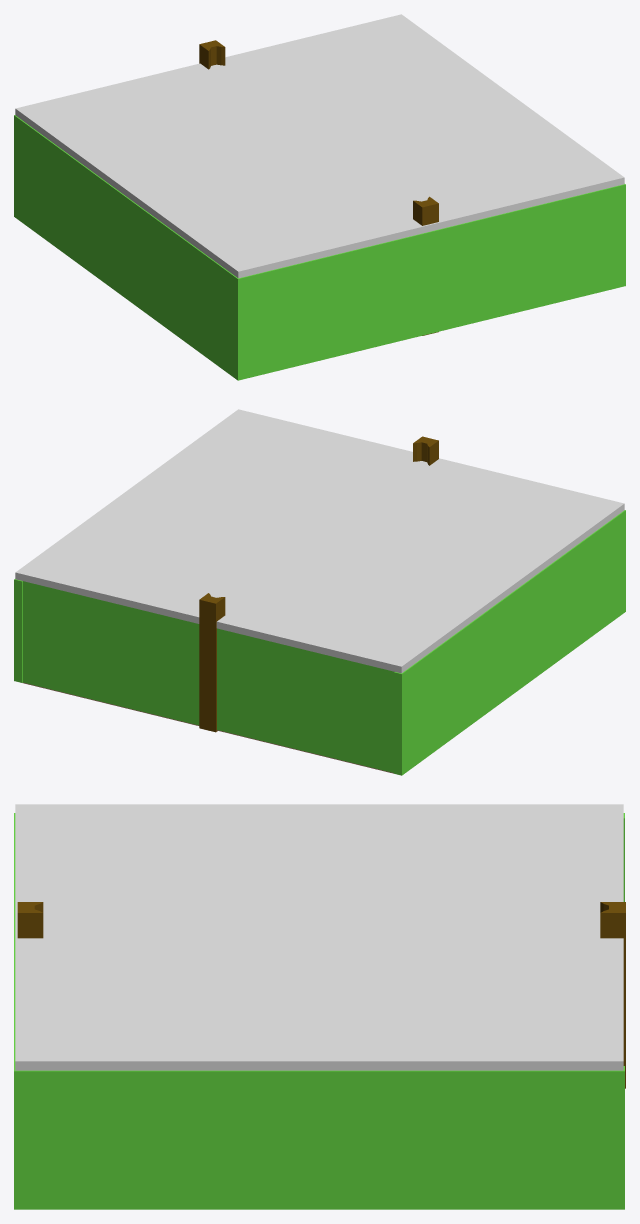
File: Area2.fbx
3 views of the same model, one above another, from view 1: azimuth 30°, elevation 25°; view 2: azimuth 150°, elevation 25°; view 3: azimuth 270°, elevation 25° (orthographic). The views are drawn at different scales.
Visible parts, largest first — view 1: Cube.004, Cube.001, Cube.003, Cube.002, Cube.005, Cube.006, Cube.007; view 2: Cube.004, Cube.007, Cube.003, Cube.005, Cube.002, Cube.006, Cube.001; view 3: Cube.004, Cube.002, Cube.001, Cube.007, Cube.005, Cube.006.
Boxes of the visible parts, left/top/right/bottom form: Cube.004: left=15, top=14, right=624, bottom=278; Cube.001: left=233, top=186, right=617, bottom=380; Cube.003: left=14, top=115, right=245, bottom=380; Cube.002: left=617, top=184, right=625, bottom=287; Cube.005: left=199, top=40, right=225, bottom=69; Cube.006: left=413, top=196, right=438, bottom=335; Cube.007: left=14, top=115, right=19, bottom=220; Cube.004: left=15, top=409, right=624, bottom=673; Cube.007: left=23, top=581, right=407, bottom=774; Cube.003: left=394, top=513, right=621, bottom=775; Cube.005: left=199, top=593, right=225, bottom=732; Cube.002: left=14, top=579, right=22, bottom=682; Cube.006: left=413, top=436, right=438, bottom=465; Cube.001: left=620, top=510, right=625, bottom=614; Cube.004: left=15, top=804, right=623, bottom=1070; Cube.002: left=14, top=1066, right=624, bottom=1209; Cube.001: left=14, top=813, right=26, bottom=1209; Cube.007: left=610, top=1070, right=622, bottom=1209; Cube.005: left=600, top=902, right=625, bottom=1088; Cube.006: left=17, top=902, right=43, bottom=938.
Size of the model in its own units: 800 by 254 by 801.
